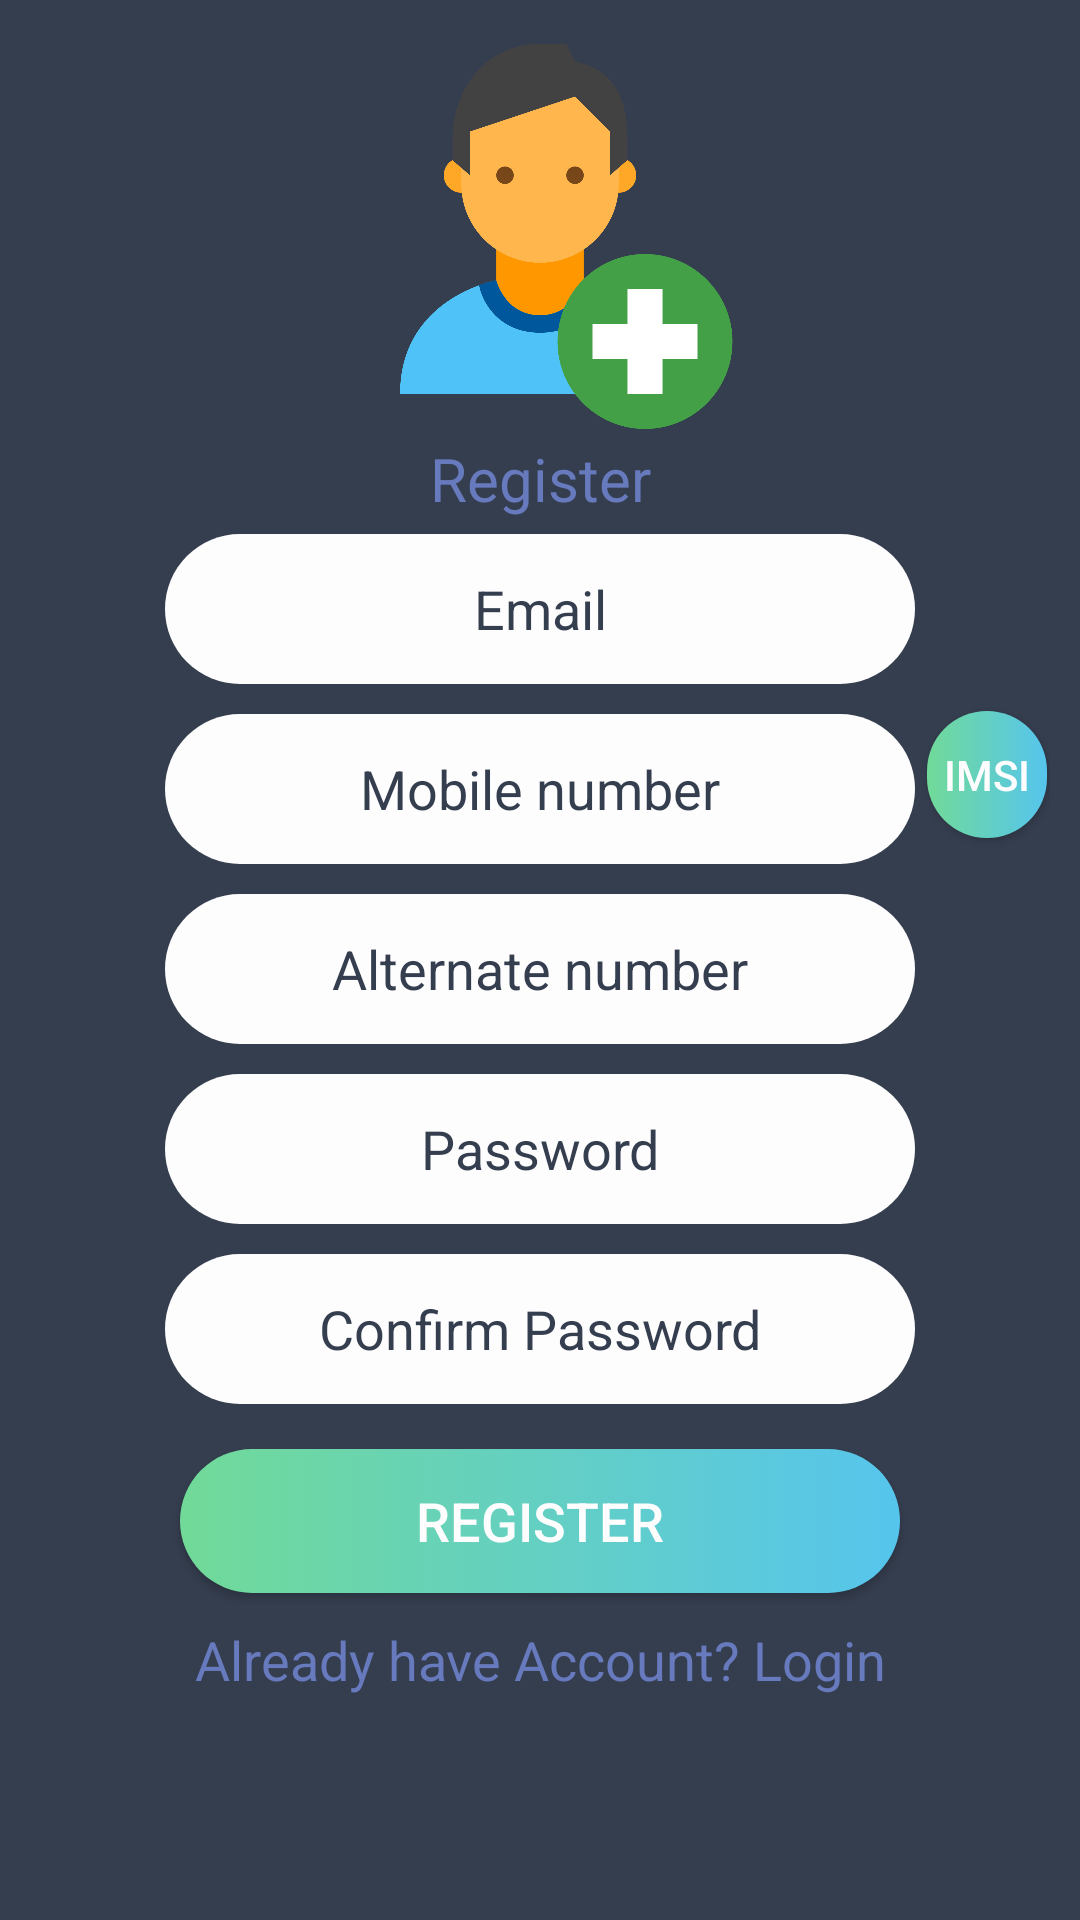

Named icons in this screenshot (1080 x 1920) and their bounding boxes, (x1, y1, x2, y2):
adduser: (400, 97, 733, 429)
